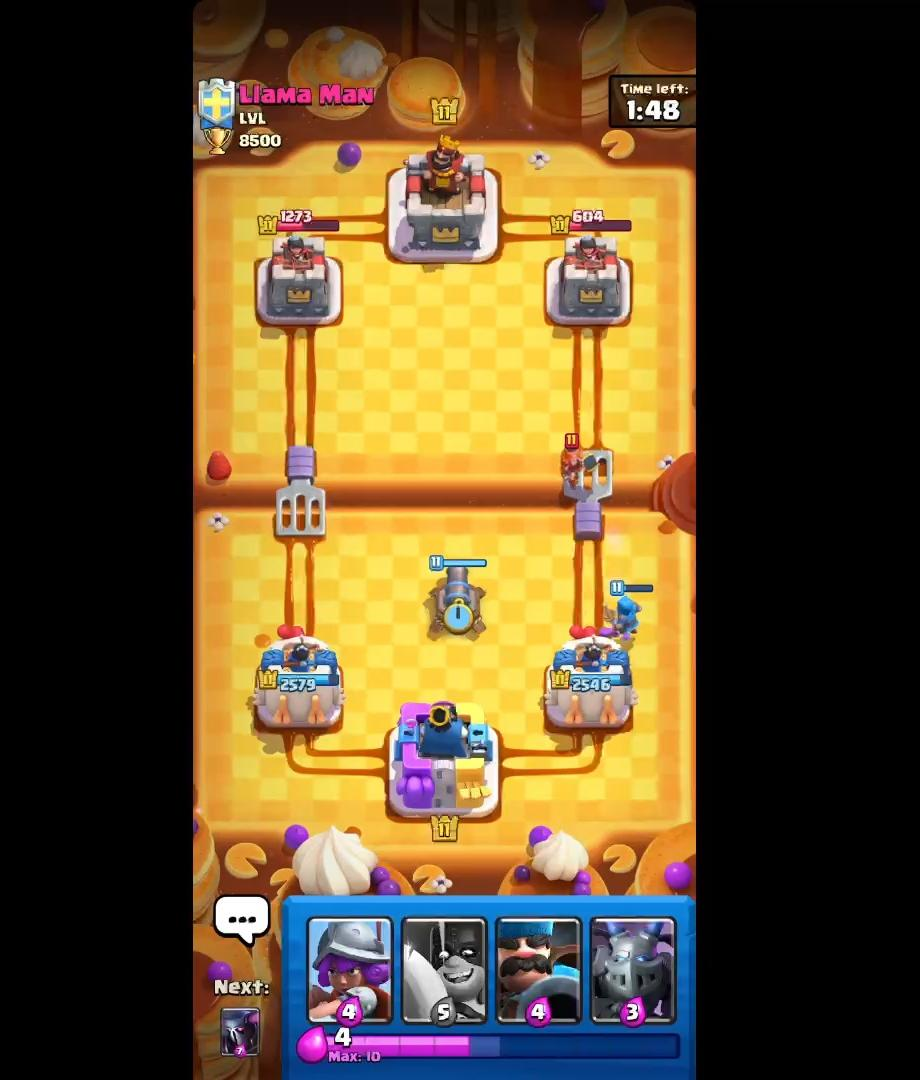Valkyrie: (556, 428, 603, 491)
